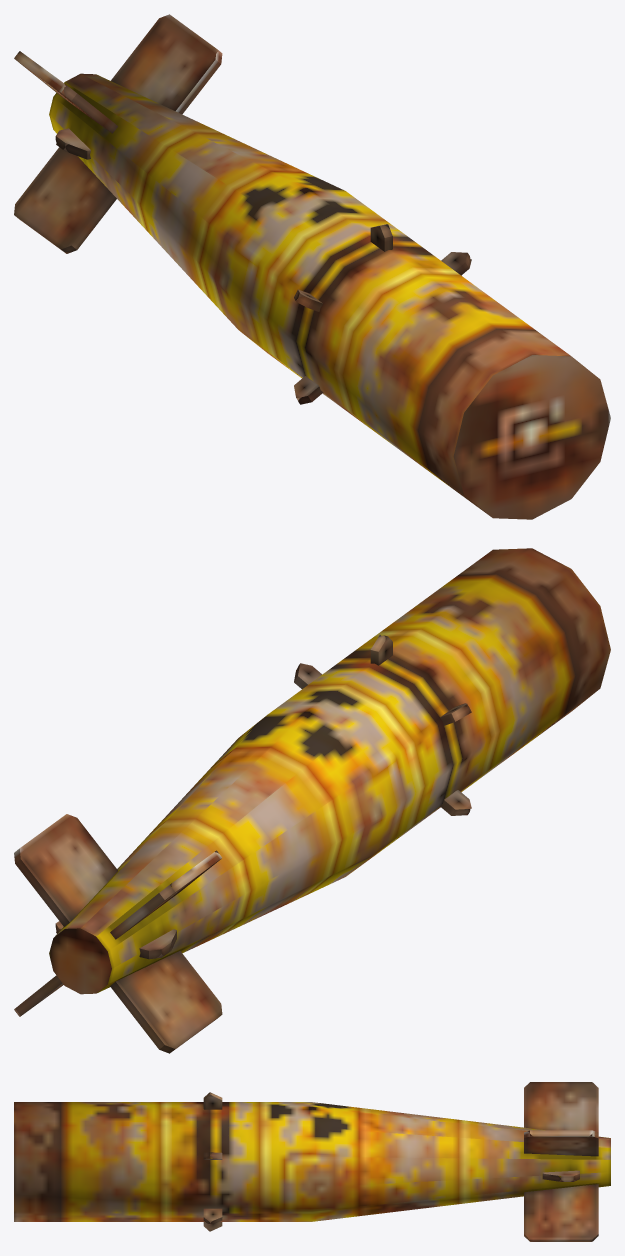
File: dud_nuke.obj
The picture shows the model from 3 angles, top to bottom: view 1: azimuth 30°, elevation 25°; view 2: azimuth 150°, elevation 25°; view 3: azimuth 270°, elevation 25°; orthographic projection. The views are drawn at different scales.
Visible parts, largest first — view 1: Cube.001_Cube.002; view 2: Cube.001_Cube.002; view 3: Cube.001_Cube.002.
Part boxes in pixels (bbox=[...]): Cube.001_Cube.002: bbox=[14, 14, 610, 519]; Cube.001_Cube.002: bbox=[14, 548, 610, 1053]; Cube.001_Cube.002: bbox=[14, 1082, 610, 1241].
Bounding box in the file's own units: 1.35 × 1.52 × 6.
